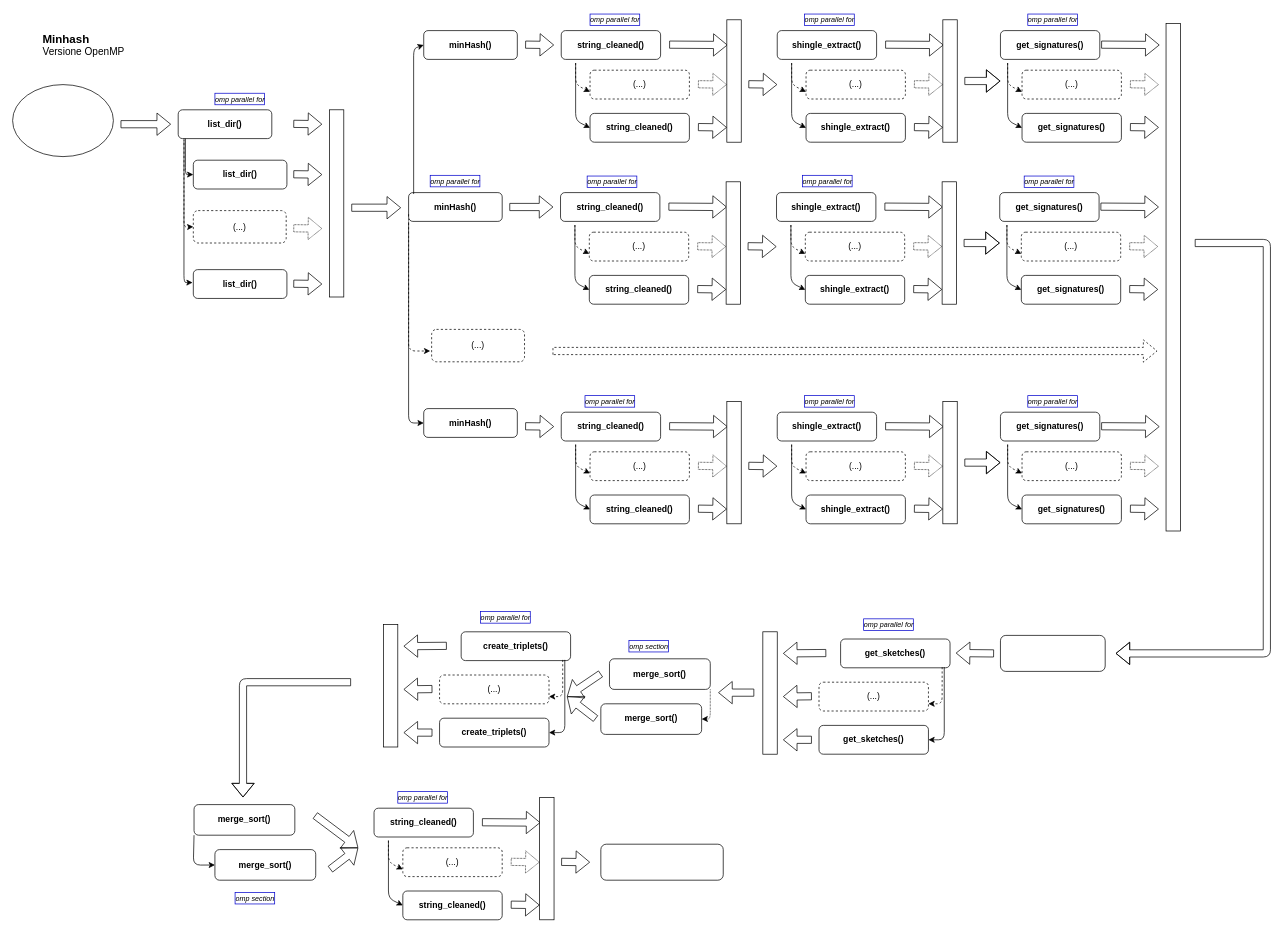
The diagram is 1283 pixels wide and 932 high, and some of its shapes have lost their labels. The shapes that lost their labels are listed below. From the top down, each one's centre as x and y in pixels, then its label:
At pixel 62 120: "main prende in input il path di una directory".
At pixel 1052 653: "find_similarities()".
At pixel 661 861: "check_similarity()".
